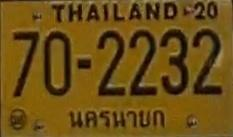0: (42, 30, 70, 95)
2: (192, 28, 220, 94), (96, 29, 123, 96), (128, 30, 156, 94)
3: (160, 28, 187, 94)
7: (12, 30, 38, 96)
NYK: (64, 103, 168, 131)
